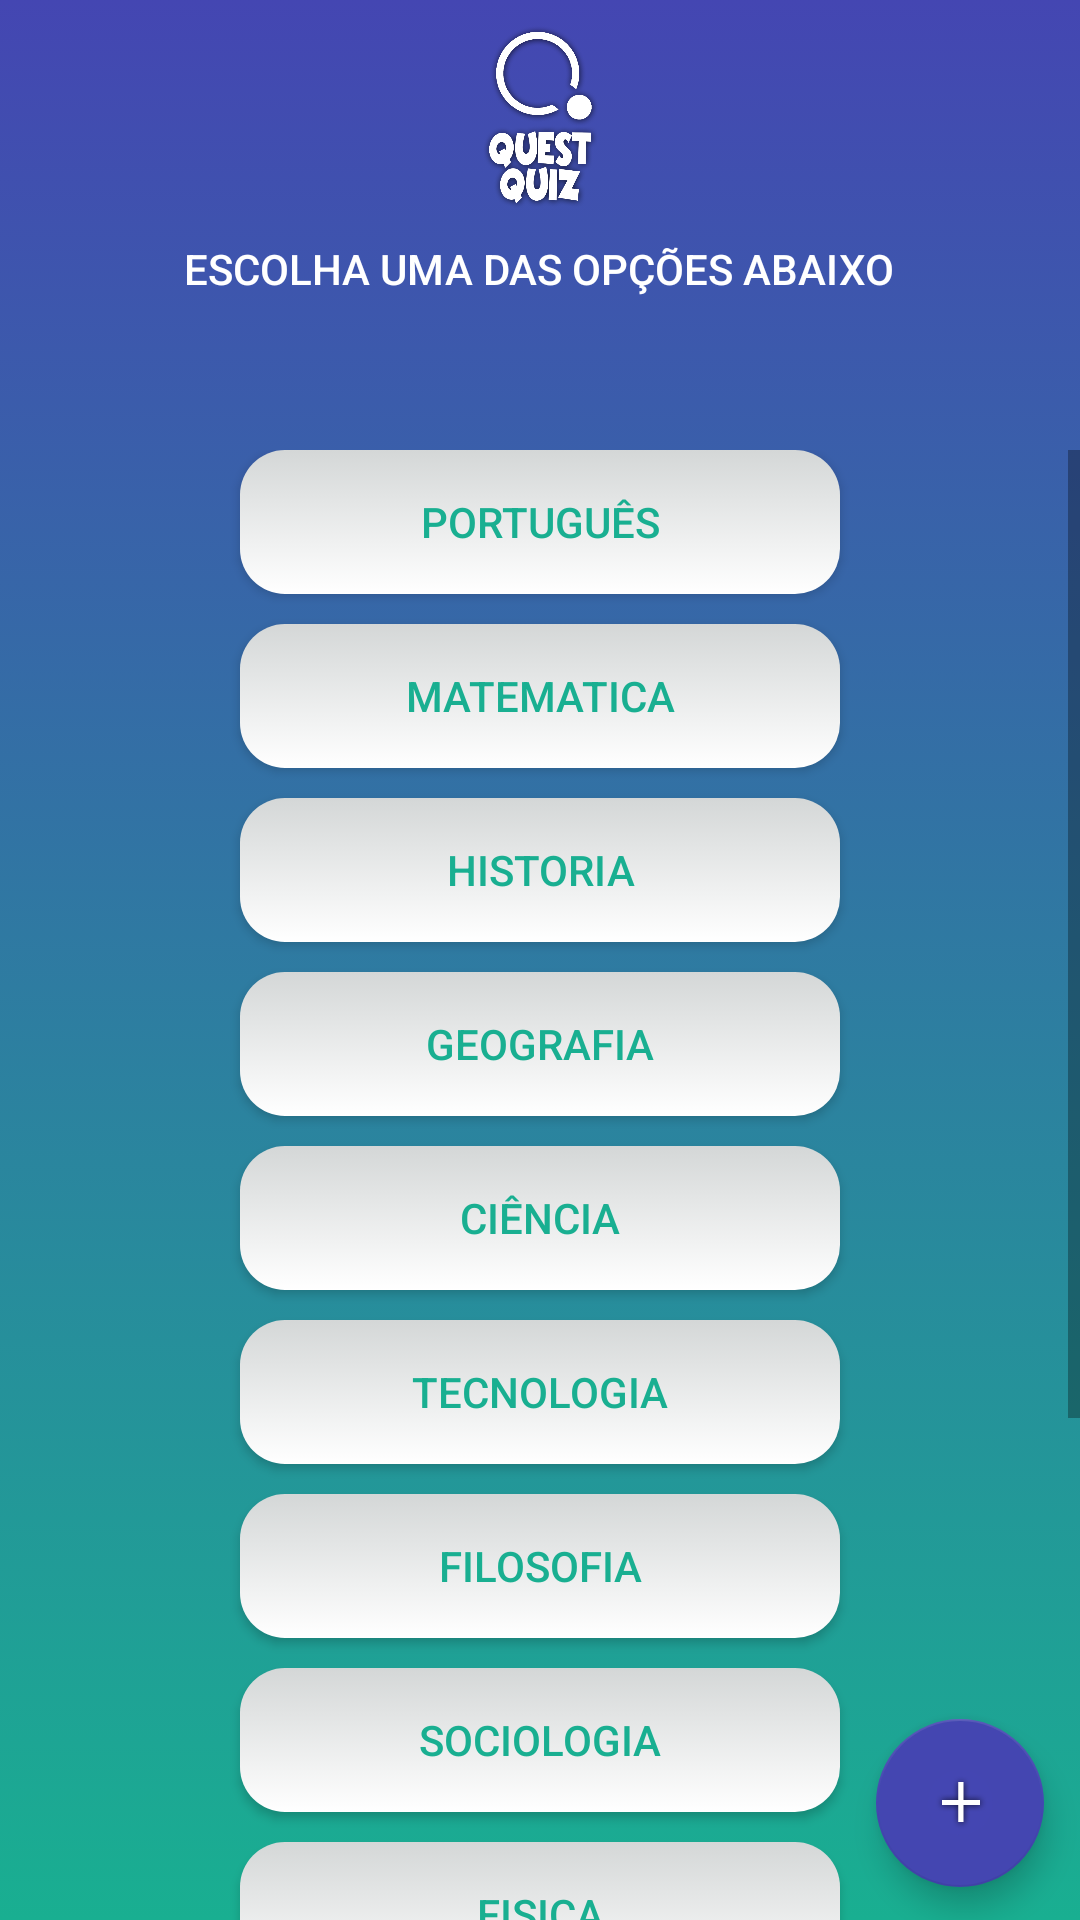

Icons on this 1080px×1920px Android screen, each with the point to tap as point (x, y):
add: point (960, 1803)
